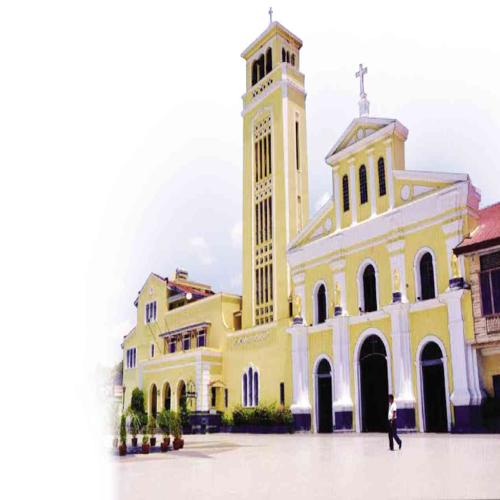Manaoag Church: (228, 6, 481, 445)
